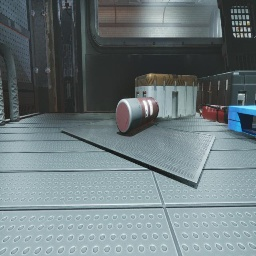FireExtinguisher ]: (199, 104, 229, 124)
NitrogenTank ,: (115, 97, 159, 134)
